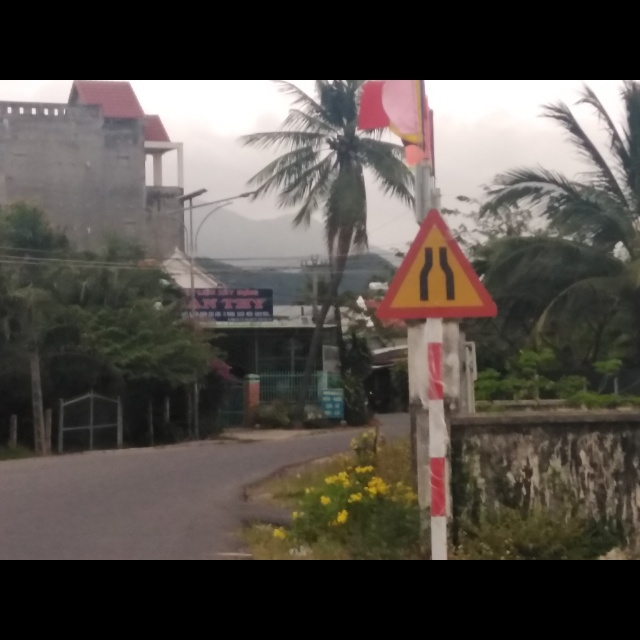Đường bị hẹp cả hai bên: (369, 203, 493, 317)
